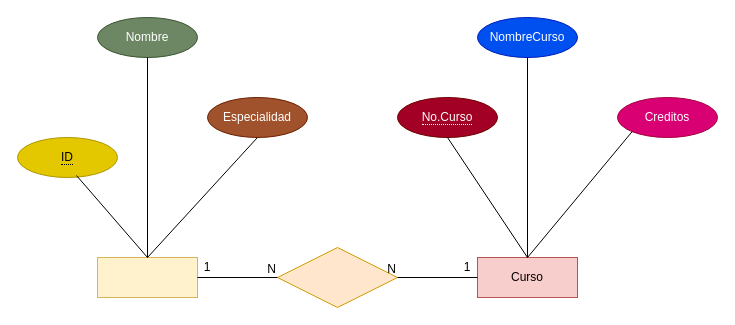
Image size: 735x325. Some labels were removed from this diagram. Each missing label, with the box of its shape:
Imparte: (276, 246, 398, 308)
Profesor: (96, 256, 198, 298)
